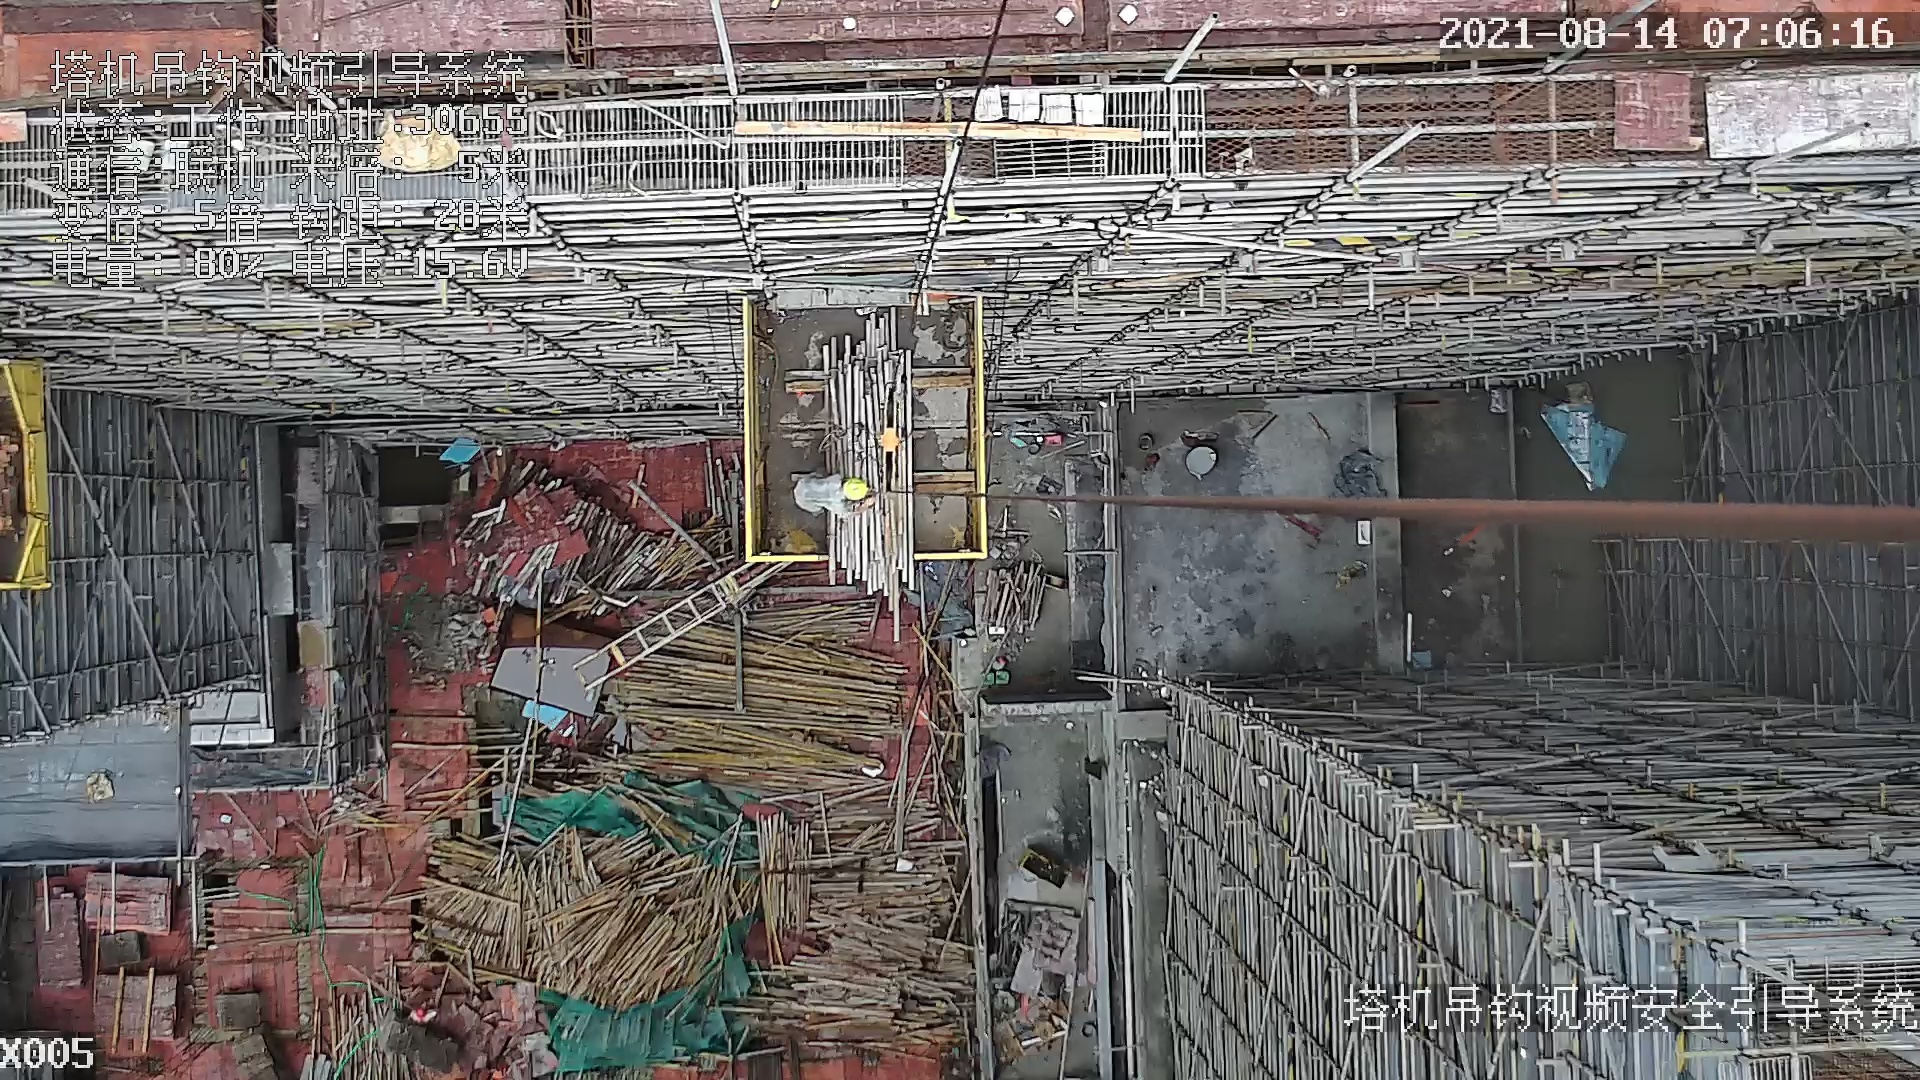helmet: (844, 477, 868, 503)
hook: (870, 374, 904, 501)
person: (799, 469, 878, 522)
